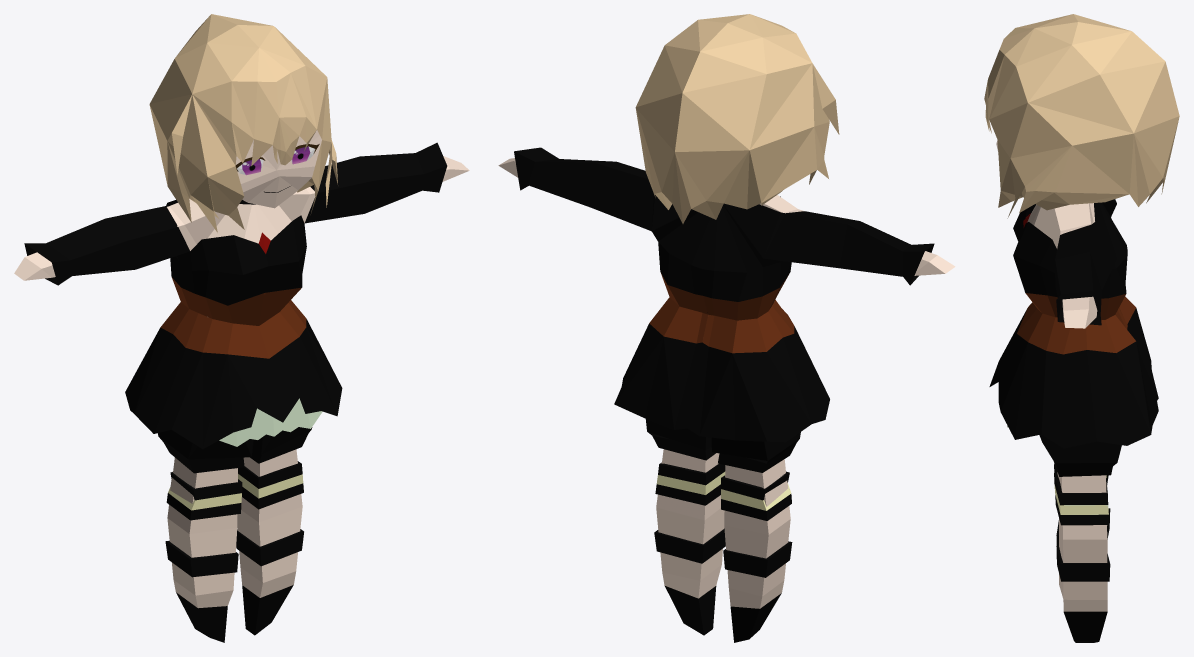
File: Hatsune51.fbx
The picture shows the model from 3 angles, left to right: view 1: azimuth 30°, elevation 25°; view 2: azimuth 150°, elevation 25°; view 3: azimuth 270°, elevation 25°; orthographic projection.
Visible parts, largest first — view 1: Cloth, Hair, Body, Uika.004, Pants, Eyes; view 2: Cloth, Hair, Body, Uika.004, Pants; view 3: Hair, Cloth, Body, Uika.004, Pants.
Boxes of the visible parts, x1,y1,x2,y2 form: Cloth: (24, 142, 447, 449); Hair: (149, 14, 337, 232); Body: (14, 130, 469, 642); Uika.004: (165, 461, 303, 577); Pants: (158, 427, 312, 473); Eyes: (235, 144, 319, 175); Cloth: (514, 147, 934, 442); Hair: (635, 14, 839, 223); Body: (498, 158, 955, 642); Uika.004: (654, 462, 792, 577); Pants: (645, 419, 800, 472); Hair: (984, 14, 1179, 218); Cloth: (989, 199, 1158, 448); Body: (996, 140, 1107, 642); Uika.004: (1054, 464, 1110, 581); Pants: (1039, 434, 1121, 476).
Bounding box in the file's own units: 195 × 255 × 73.61.
